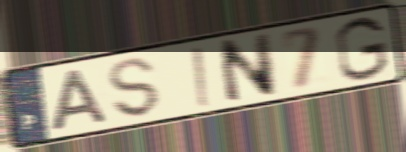7: (279, 22, 328, 94)
A: (49, 66, 112, 134)
G: (333, 14, 391, 84)
I: (189, 44, 214, 110)
N: (215, 30, 279, 107)
S: (107, 55, 163, 120)
